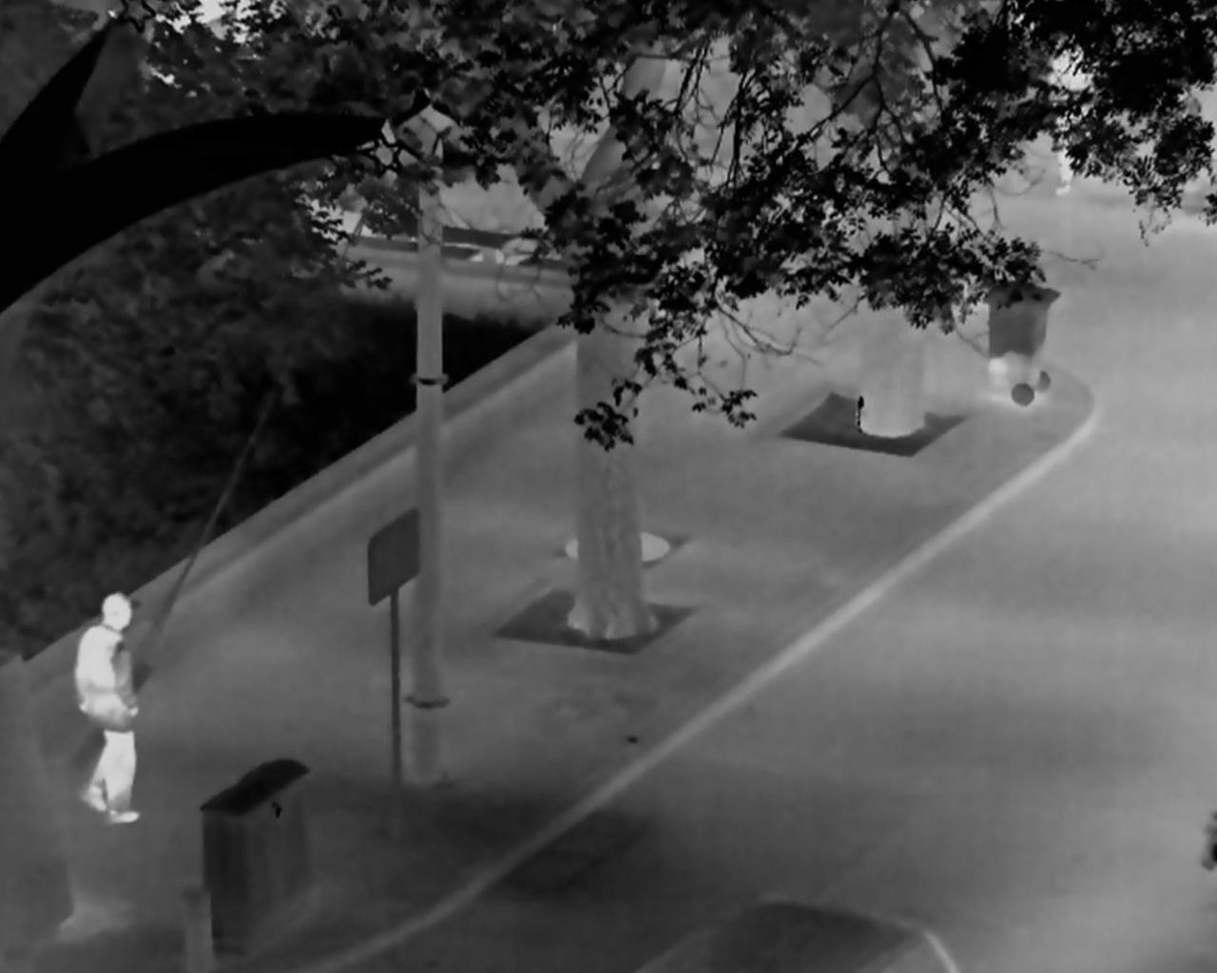person: (71, 593, 141, 824), (1046, 32, 1098, 198)
